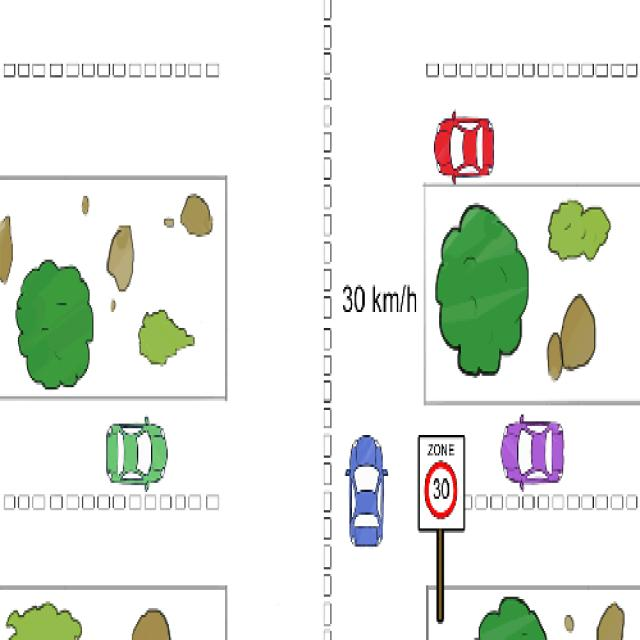speed: (424, 462, 459, 520)
